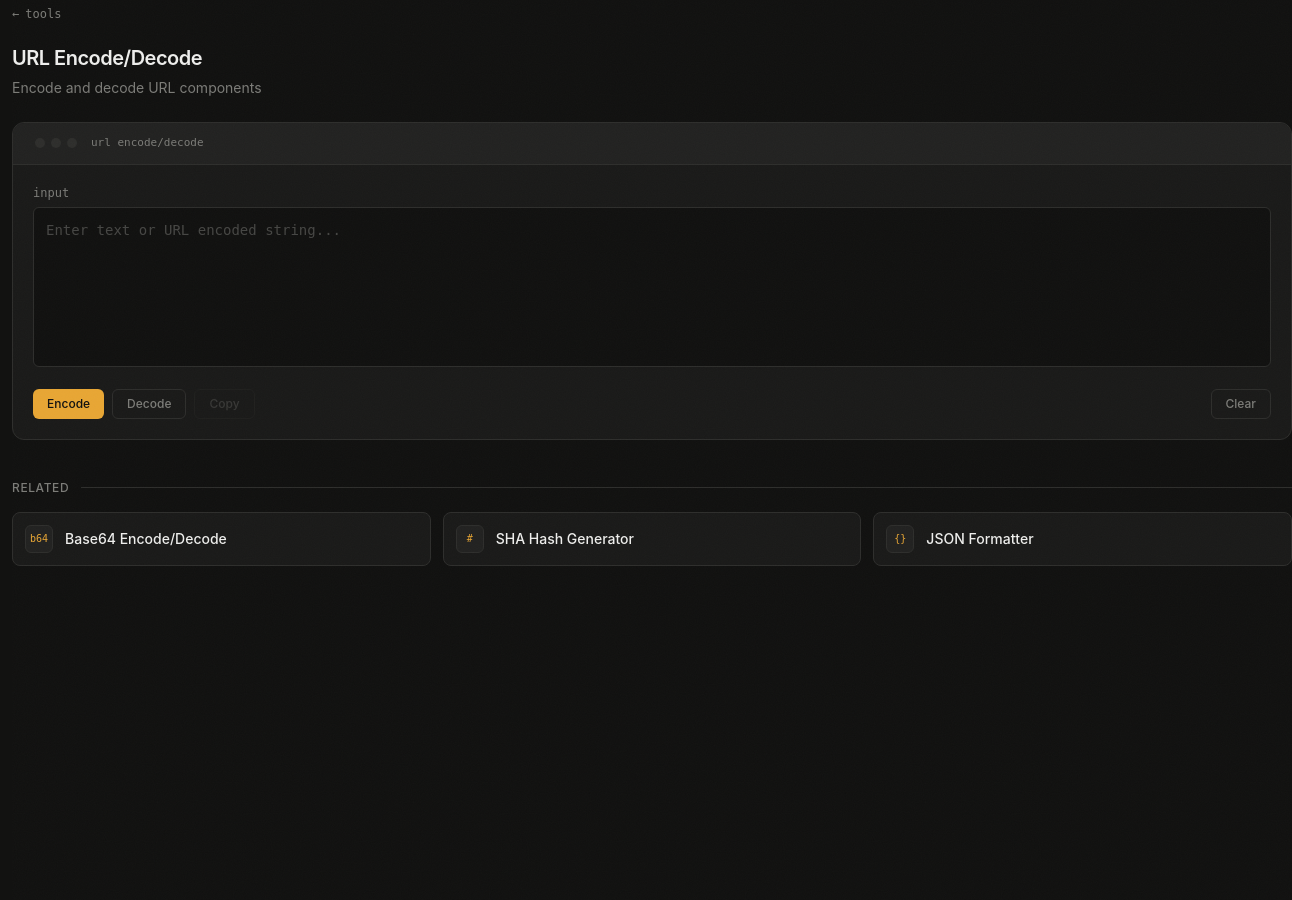
Scenario: URL Encode/Decode › encodes URL components
Type "hello world&foo=bar" into the text box with placeholder "Enter text or URL encoded string..." at (652, 286), box [33,206,1271,366]
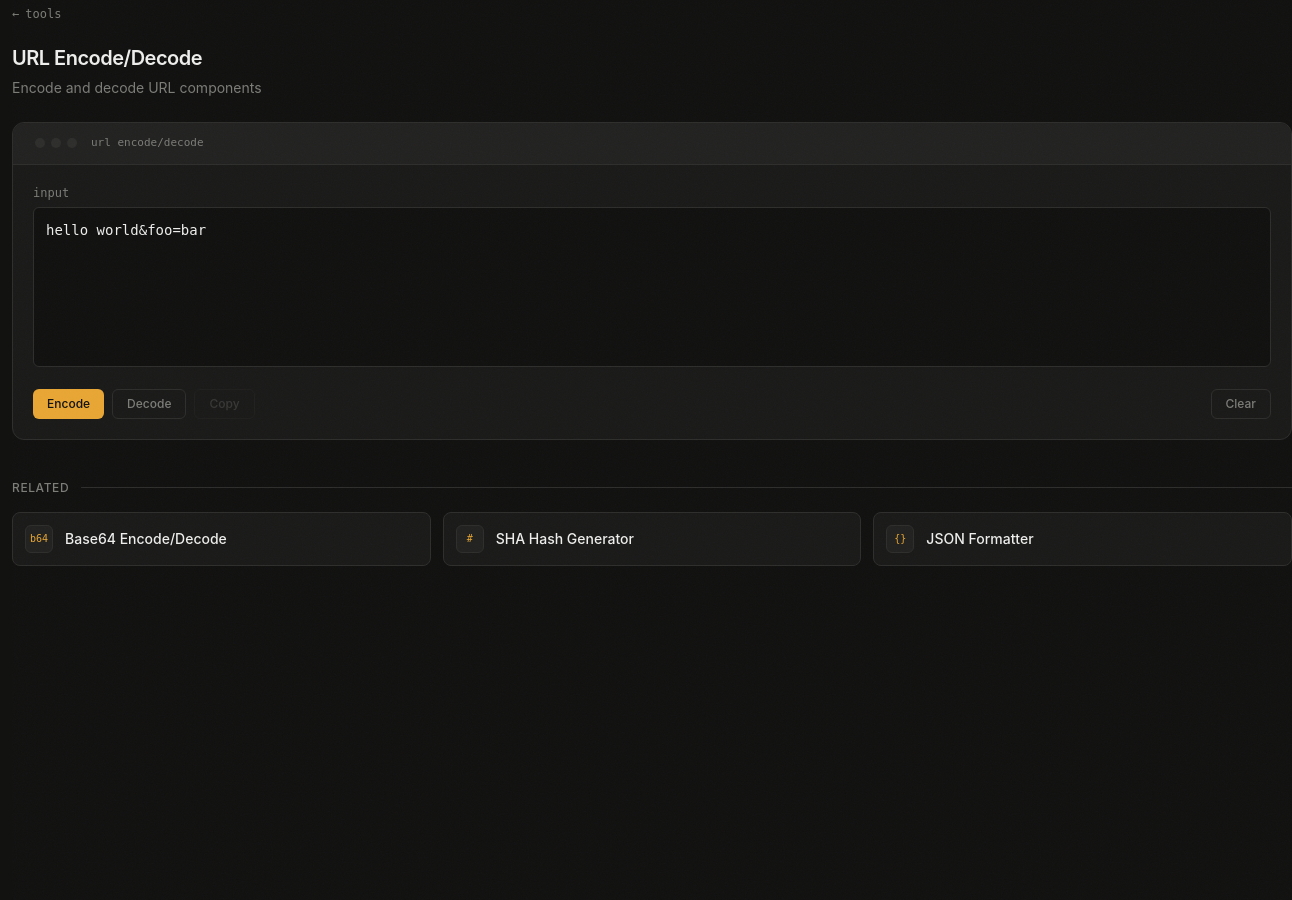
Click the button "Encode" at (69, 404), box [33,388,104,418]
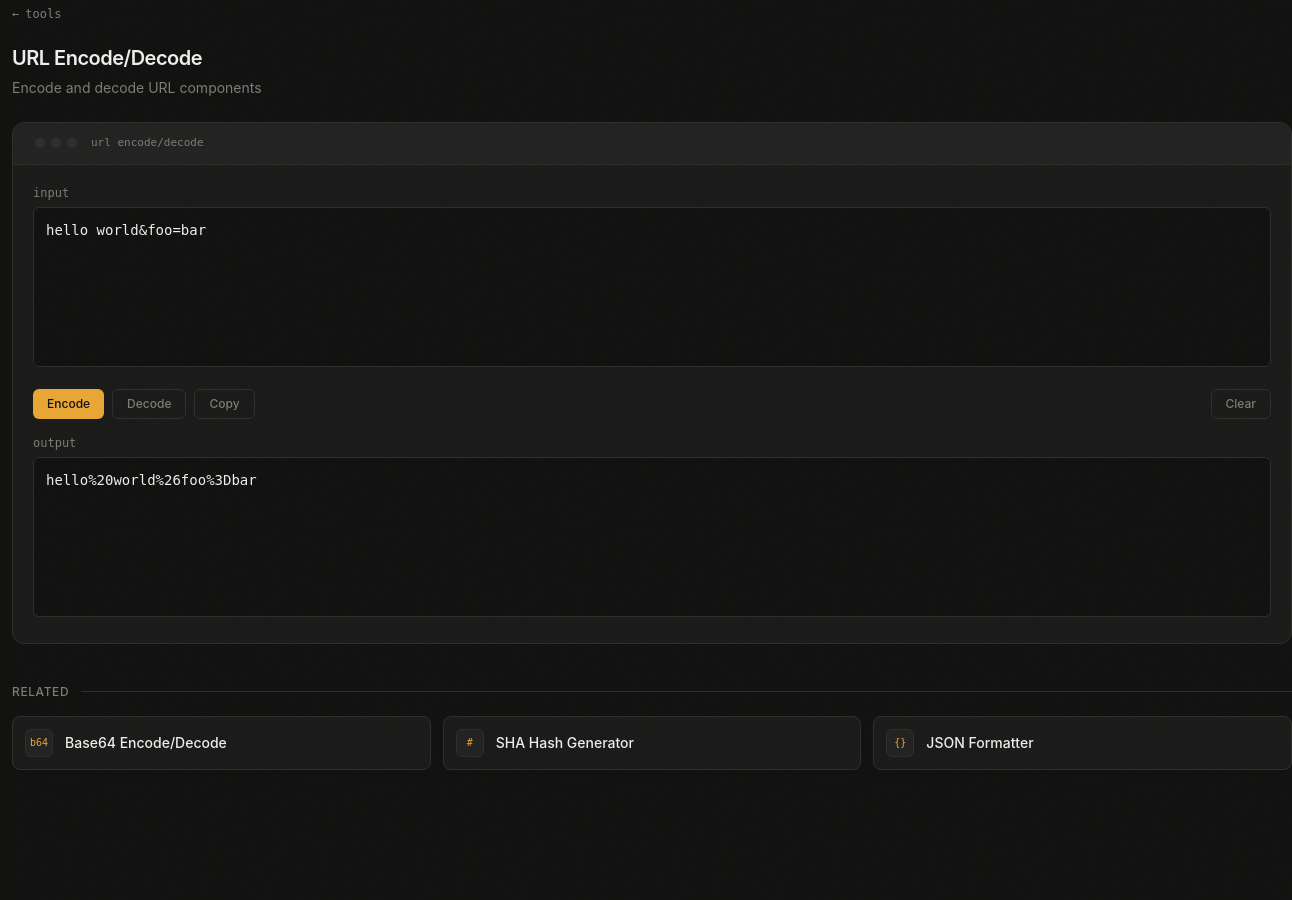
Expected: the text box showing "hello%20world%26foo%3Dbar" below "output" is shown, [33,456,1271,616]
